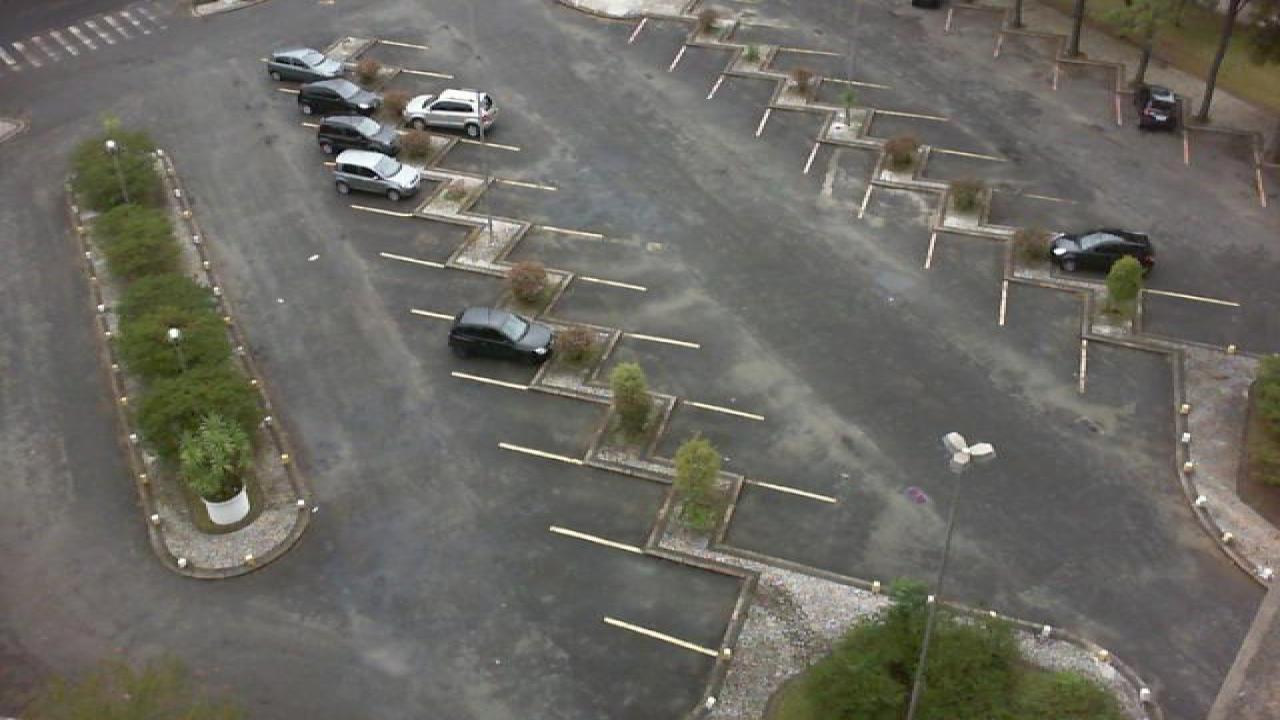Car: (448, 305, 556, 362), (1048, 228, 1156, 279), (328, 150, 426, 200), (402, 88, 496, 139), (314, 114, 406, 160), (294, 79, 384, 117), (262, 47, 344, 84), (1134, 82, 1182, 133)
